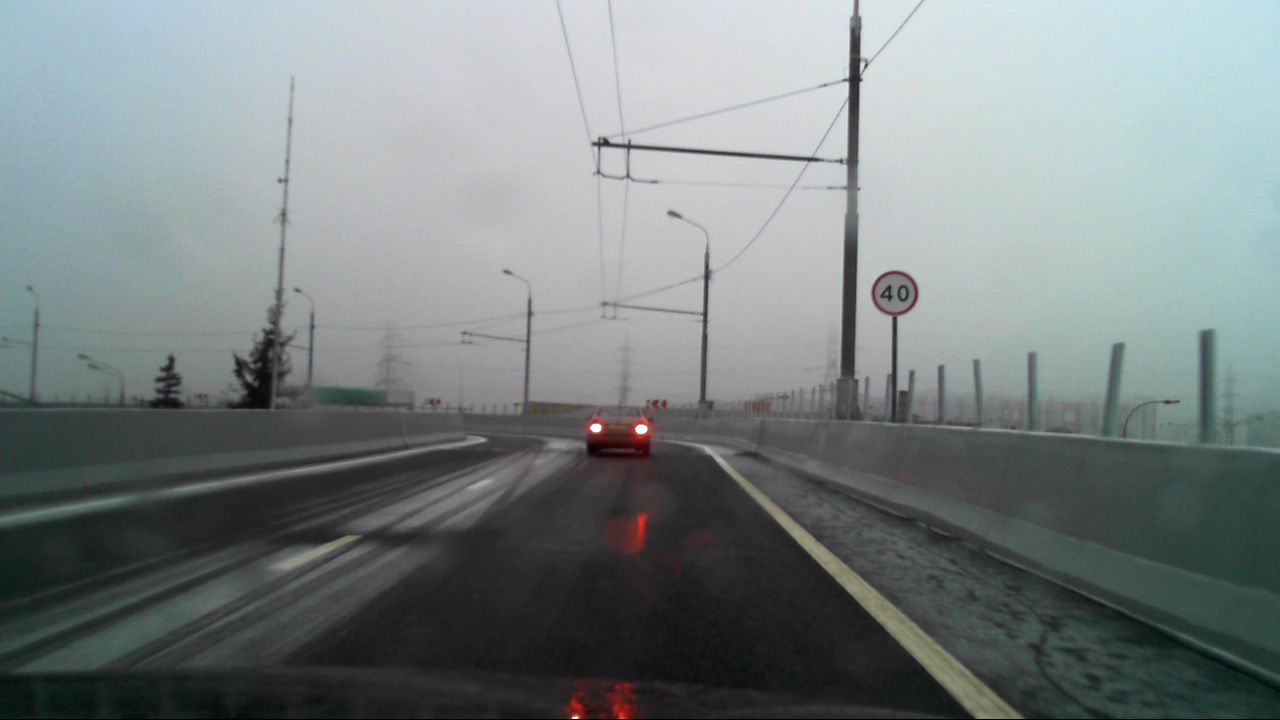speed_warning_40: (872, 270, 920, 316)
